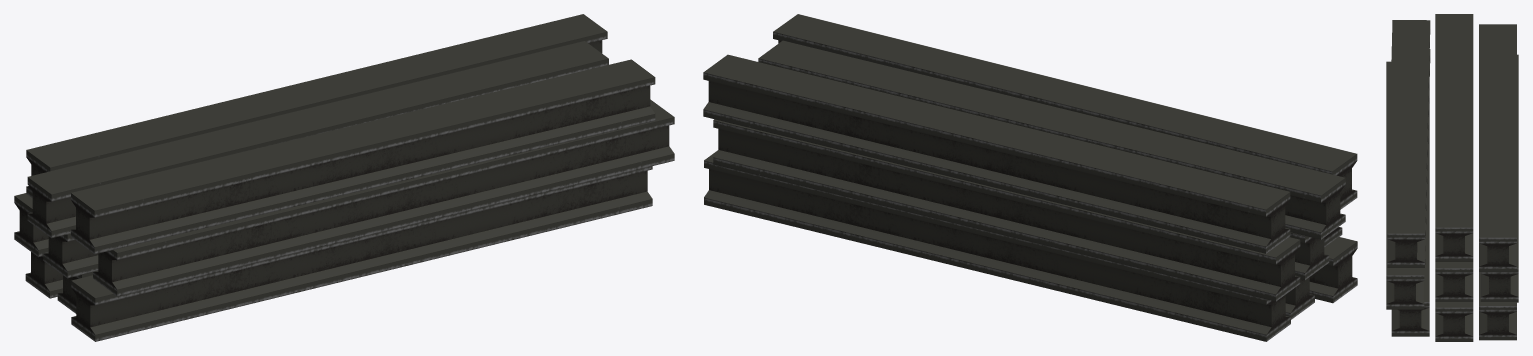
The model's file is Beam_Stack.fbx.
The picture shows the model from 3 angles, left to right: view 1: azimuth 30°, elevation 25°; view 2: azimuth 150°, elevation 25°; view 3: azimuth 270°, elevation 25°; orthographic projection. The views are drawn at different scales.
Parts seen in each view (by area): view 1: Beam_Stack; view 2: Beam_Stack; view 3: Beam_Stack.
Part boxes in pixels (x1=…): Beam_Stack: x1=14, y1=14, x2=674, y2=341; Beam_Stack: x1=703, y1=14, x2=1357, y2=341; Beam_Stack: x1=1386, y1=14, x2=1518, y2=341.
Size of the model in its own units: 4.25 by 0.898 by 1.05.
